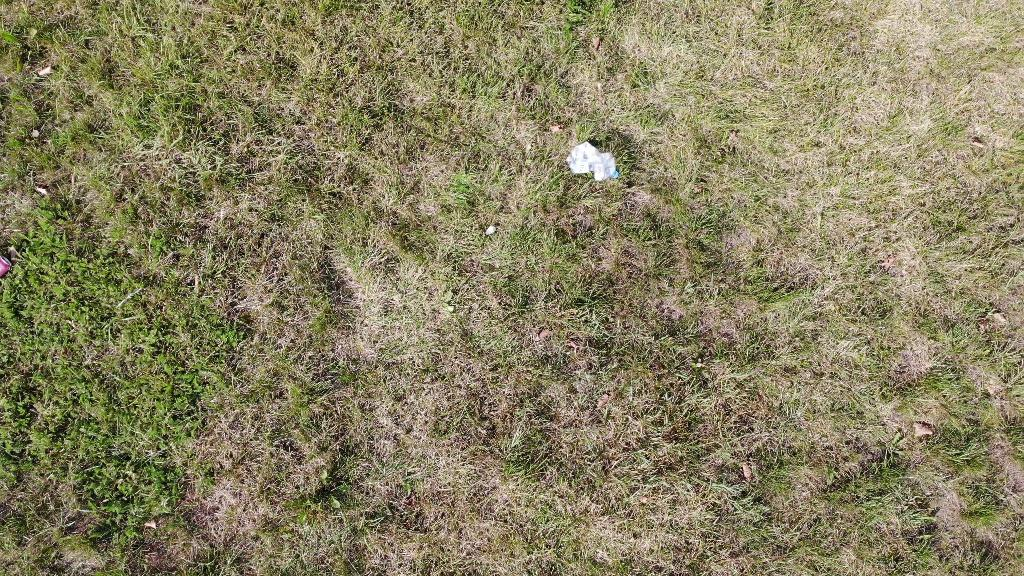garbage: (567, 139, 620, 184)
